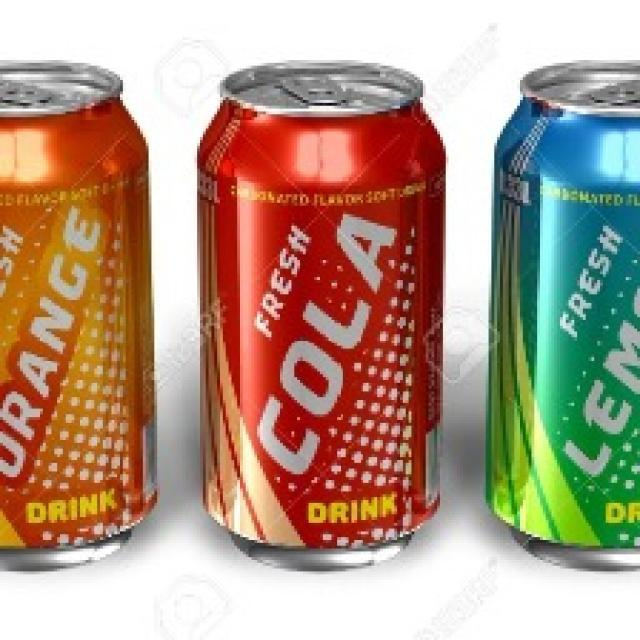metel: (209, 64, 442, 567)
